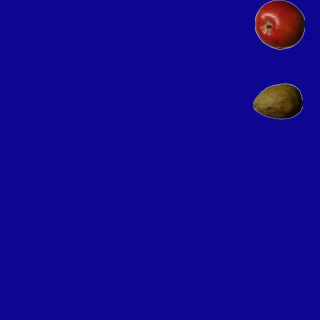Apple Braeburn: (254, 0, 304, 49)
Papaya: (252, 76, 302, 126)
